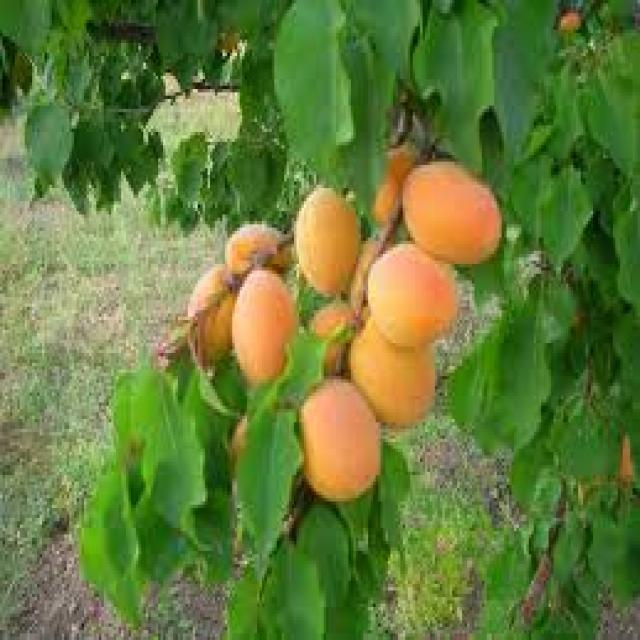kayisi: (274, 194, 505, 505), (186, 219, 294, 361)
kayisi-yapragi: (504, 54, 640, 632), (15, 11, 482, 131), (78, 410, 224, 582)
